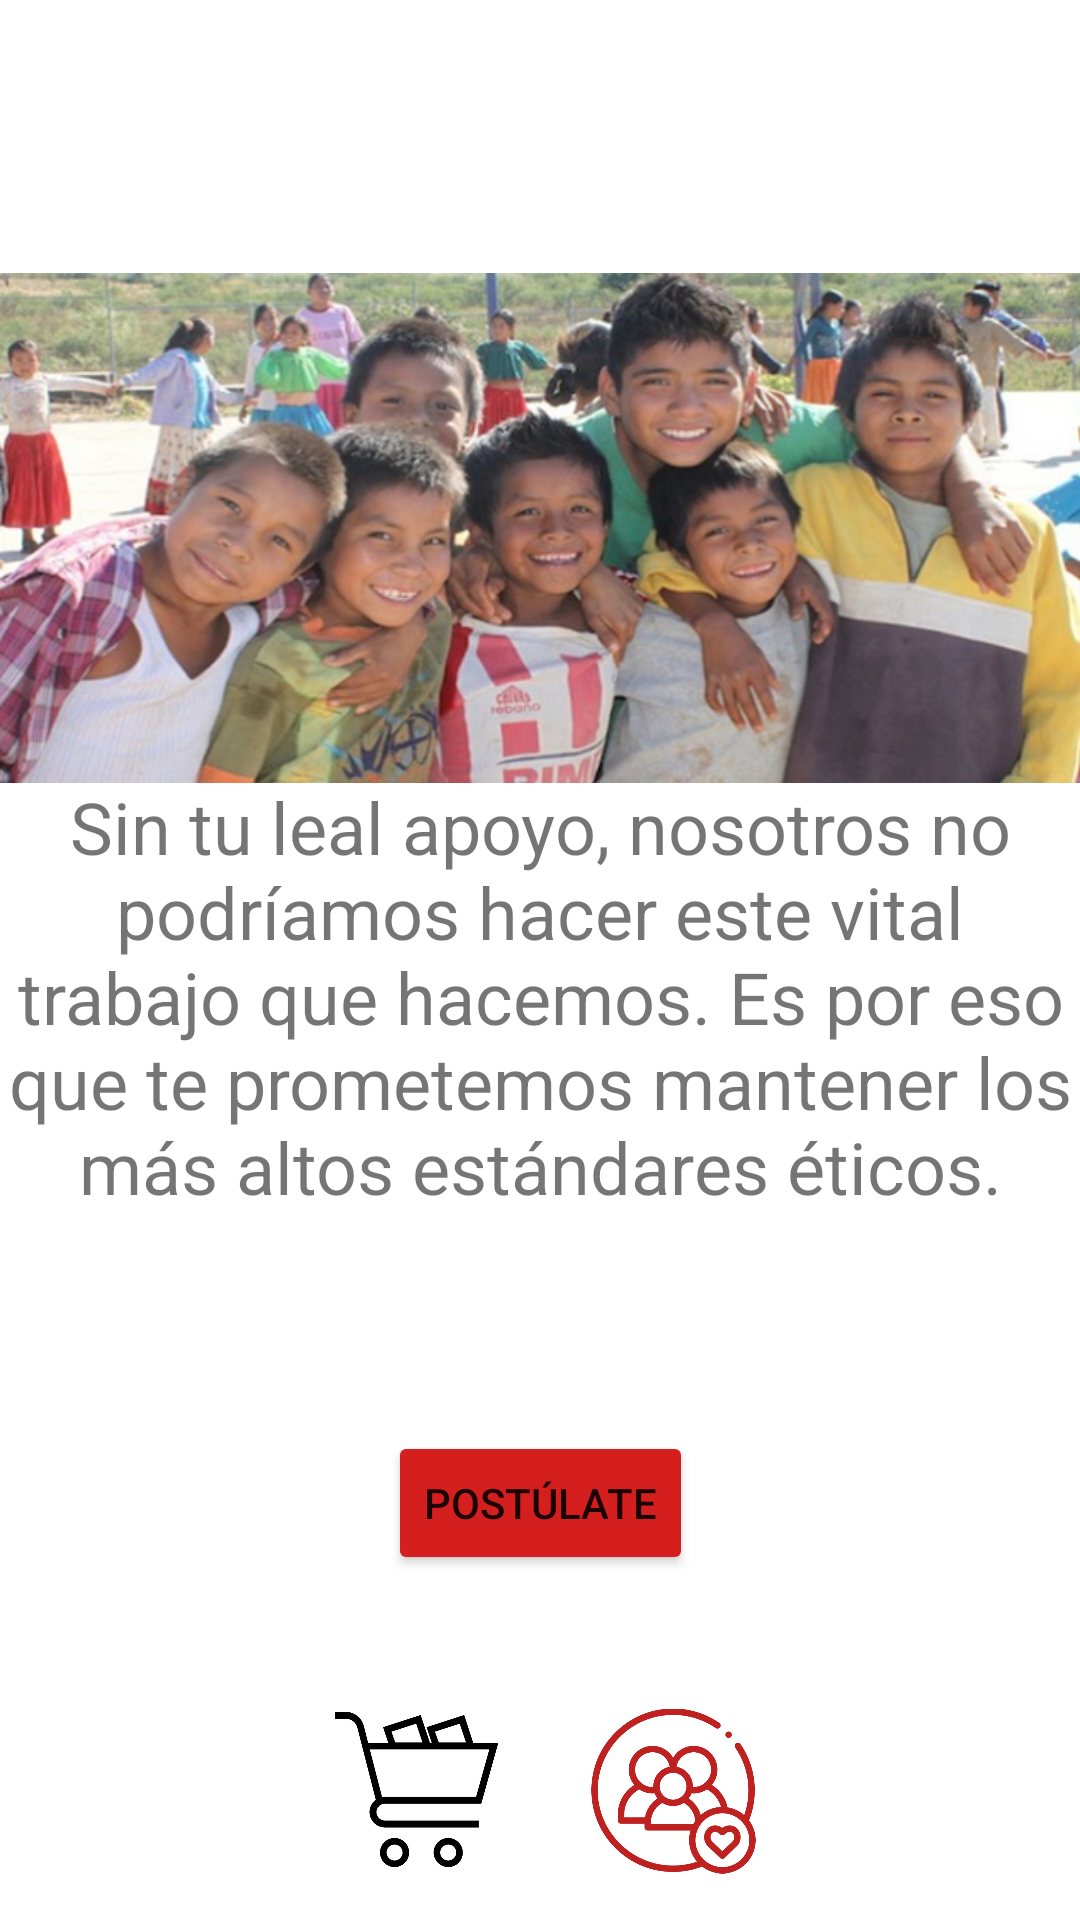

Named icons in this screenshot (1080*1920) and their bounding boxes, bbox=(x1, y1, x2, y2):
carrito: bbox=(335, 1712, 498, 1867)
familiaicono: bbox=(591, 1709, 756, 1874)
